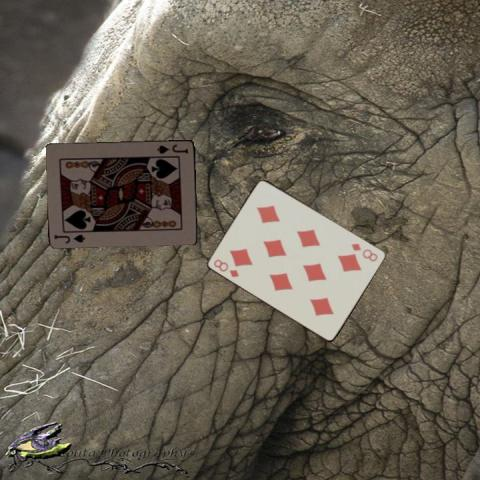8d: (349, 240, 379, 263), (210, 256, 240, 279)
Js: (51, 231, 87, 245), (154, 142, 189, 156)
